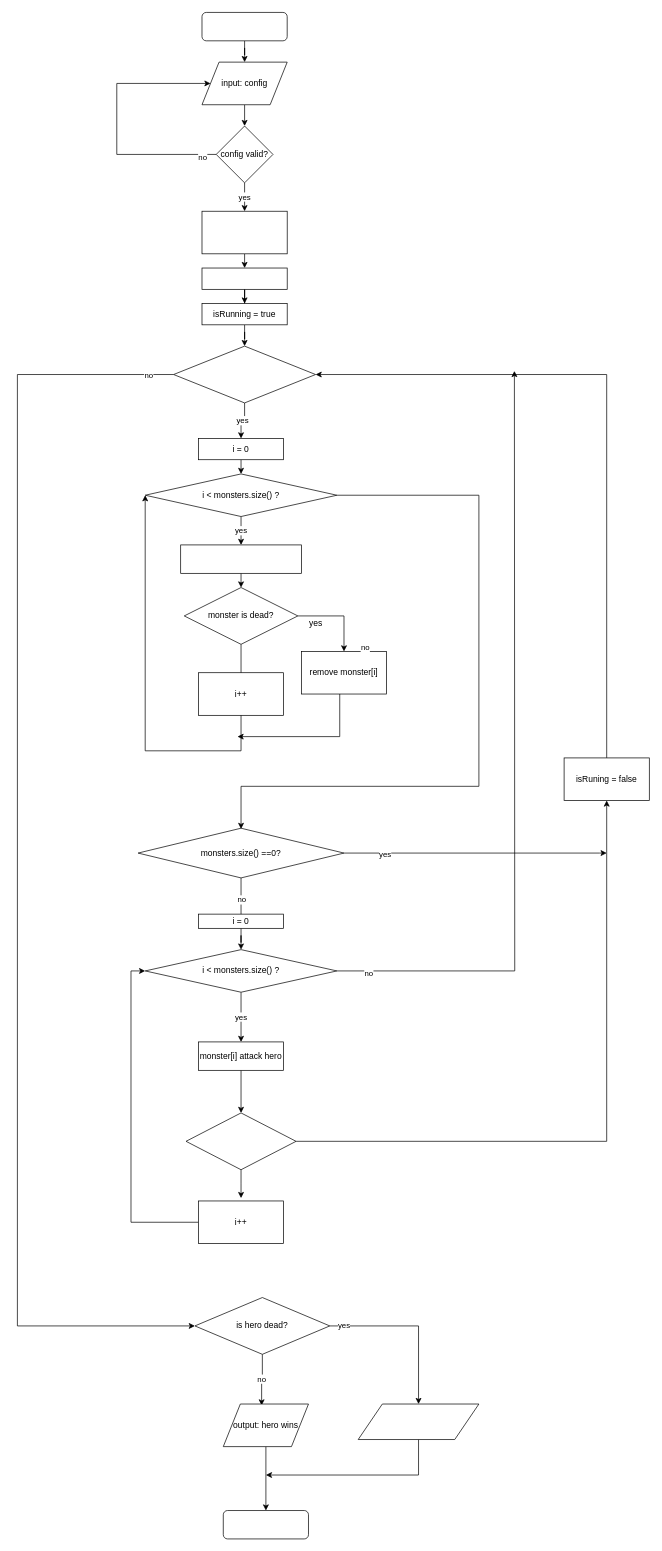
Image size: 662x1551. Some labels were removed from this diagram. Each missing label, with the centre of its shape:
"end" goes at pixel 265 1524.
"hero attack monster[i]" goes at pixel 240 558.
"hero equips weapon" goes at pixel 244 278.
"hero is dead?" goes at pixel 240 1141.
"init hero and monsters" goes at pixel 244 232.
"isRunning == true?" goes at pixel 244 374.
"output: monsters win" goes at pixel 418 1421.
"start" goes at pixel 244 26.
